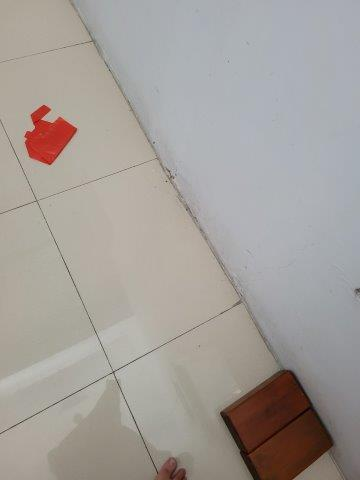plastik: (23, 104, 77, 167)
